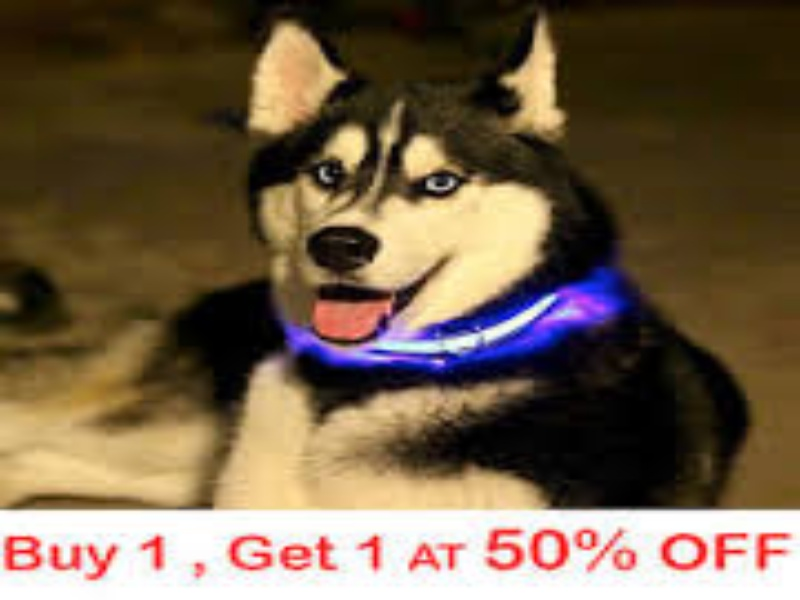dog: (229, 15, 747, 523)
